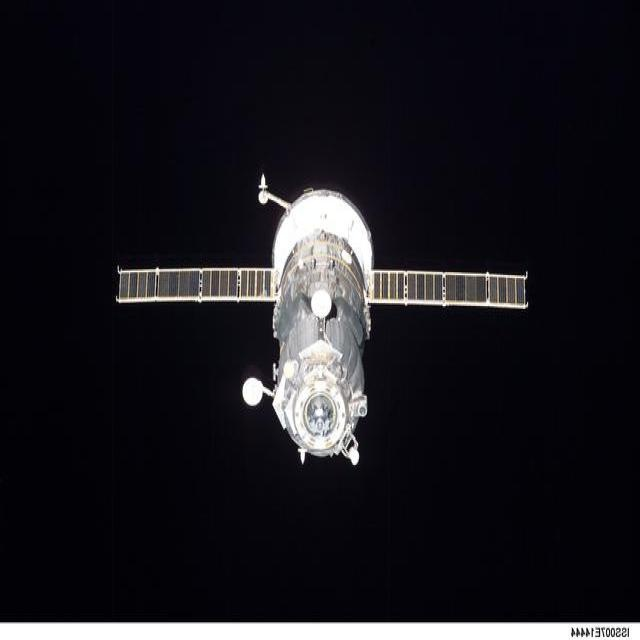satellite: (120, 170, 545, 490)
